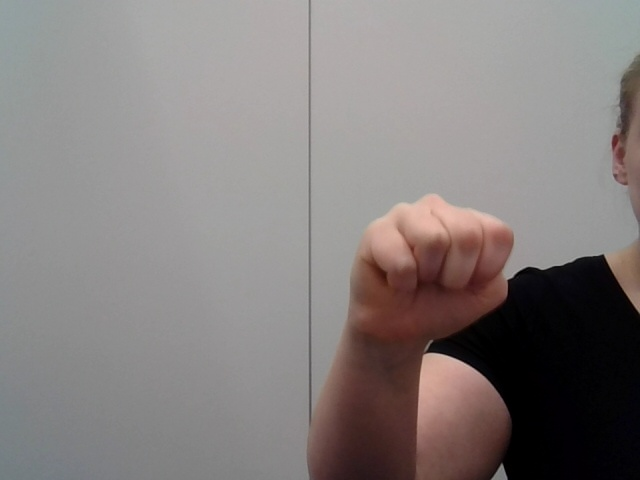down: (326, 187, 528, 386)
